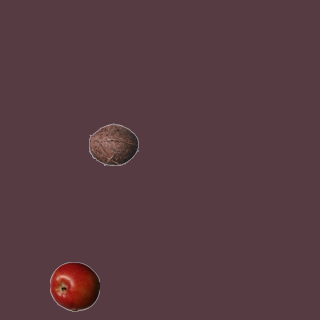Apple Braeburn: (49, 261, 99, 311)
Cocos: (88, 119, 138, 169)
